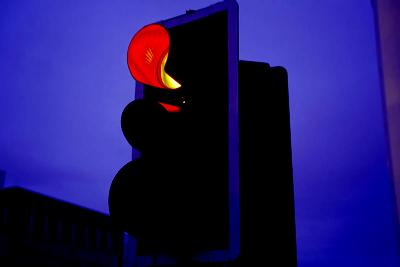International Road Signal Light: (108, 24, 233, 254)
